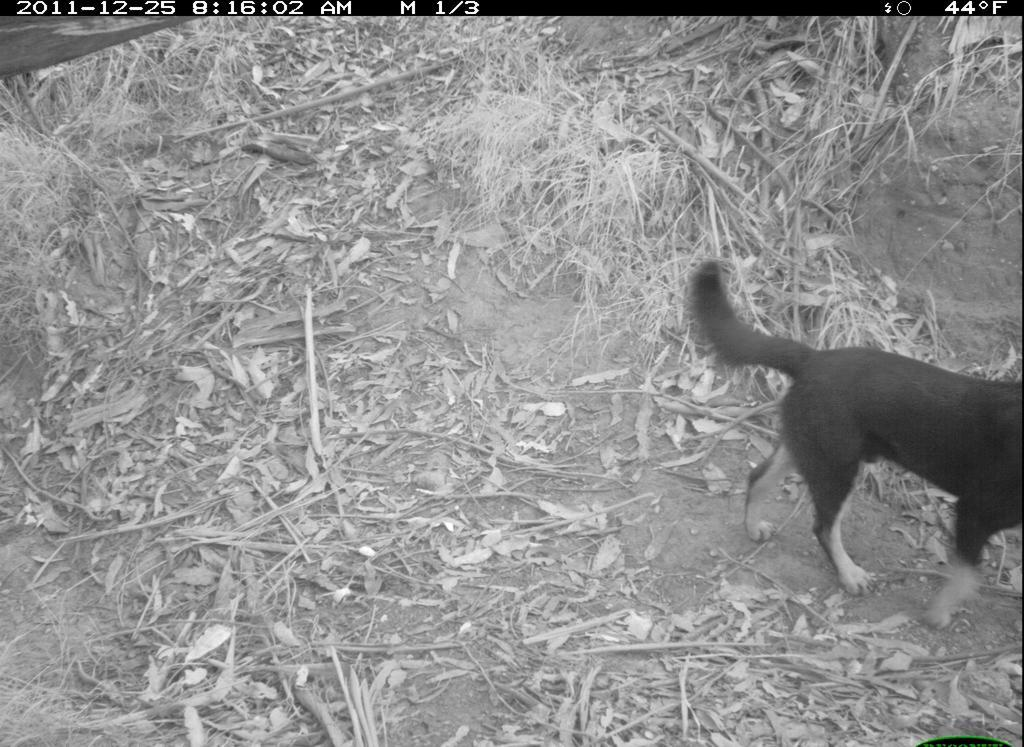dog: (675, 245, 1021, 638)
